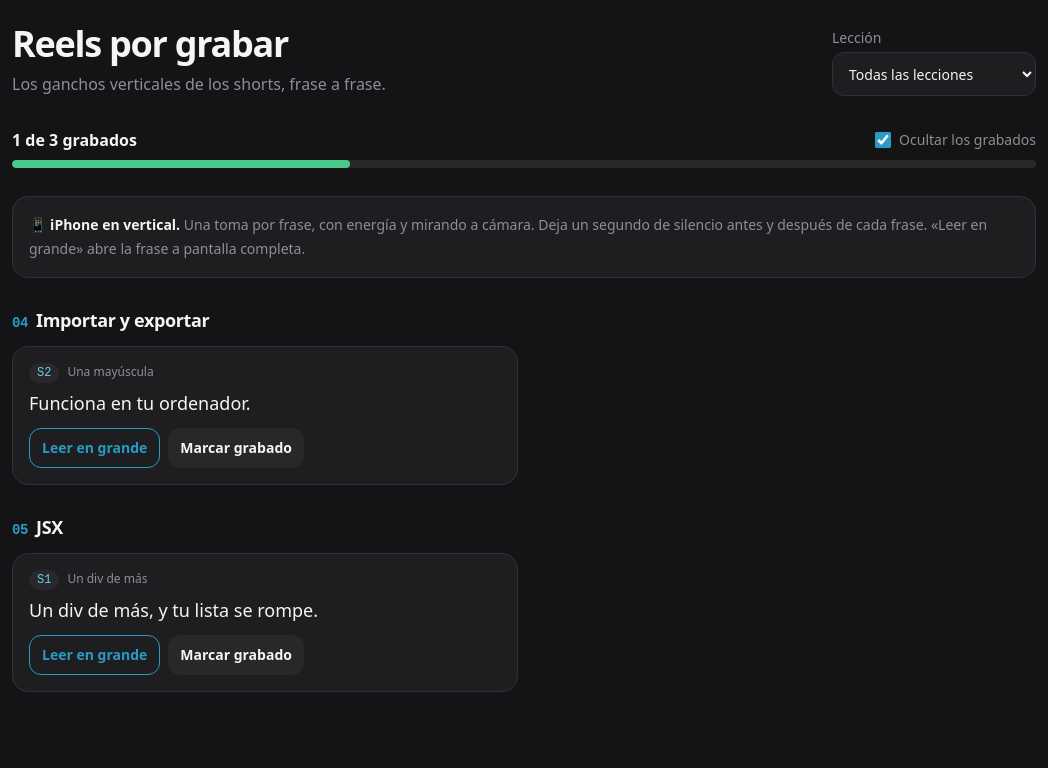
Test: teleprompter de reels › filtra por lección y marca grabado guardándolo en la API
Select "05 · JSX" in the dropdown labelled "Lección": (934, 74) [832,52,1036,96]
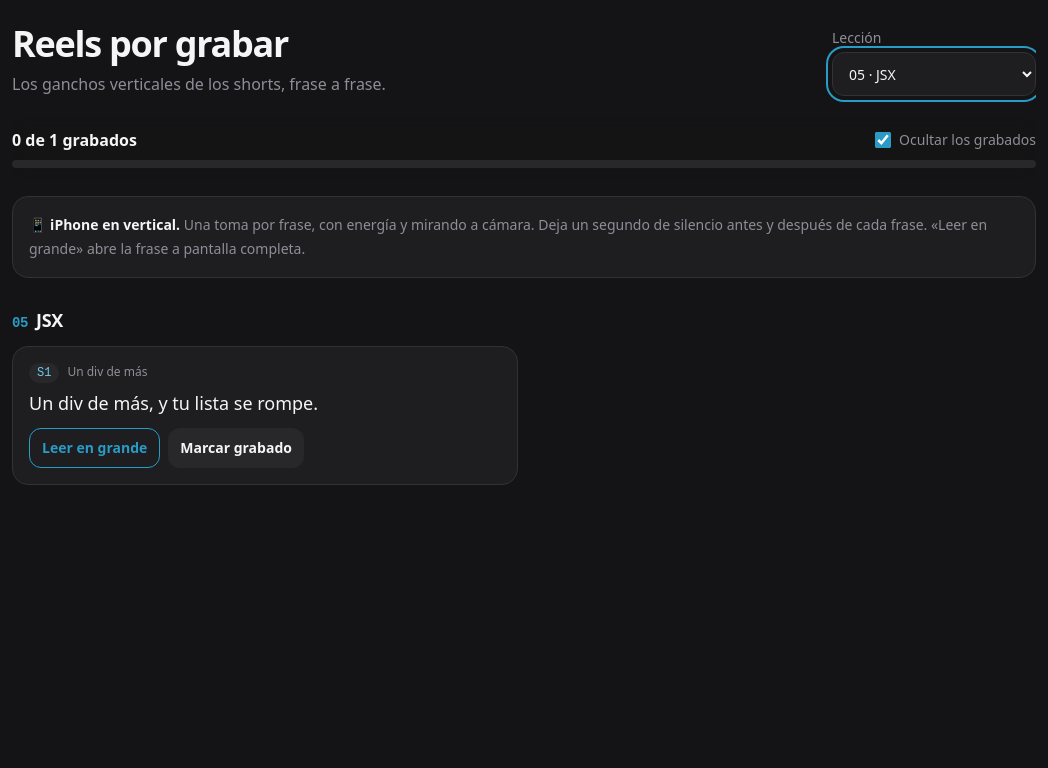
expect the text "0 de 1 grabados" is shown: met, box [12,128,137,152]
Click the button "Marcar grabado": (236, 448) [168,428,304,468]
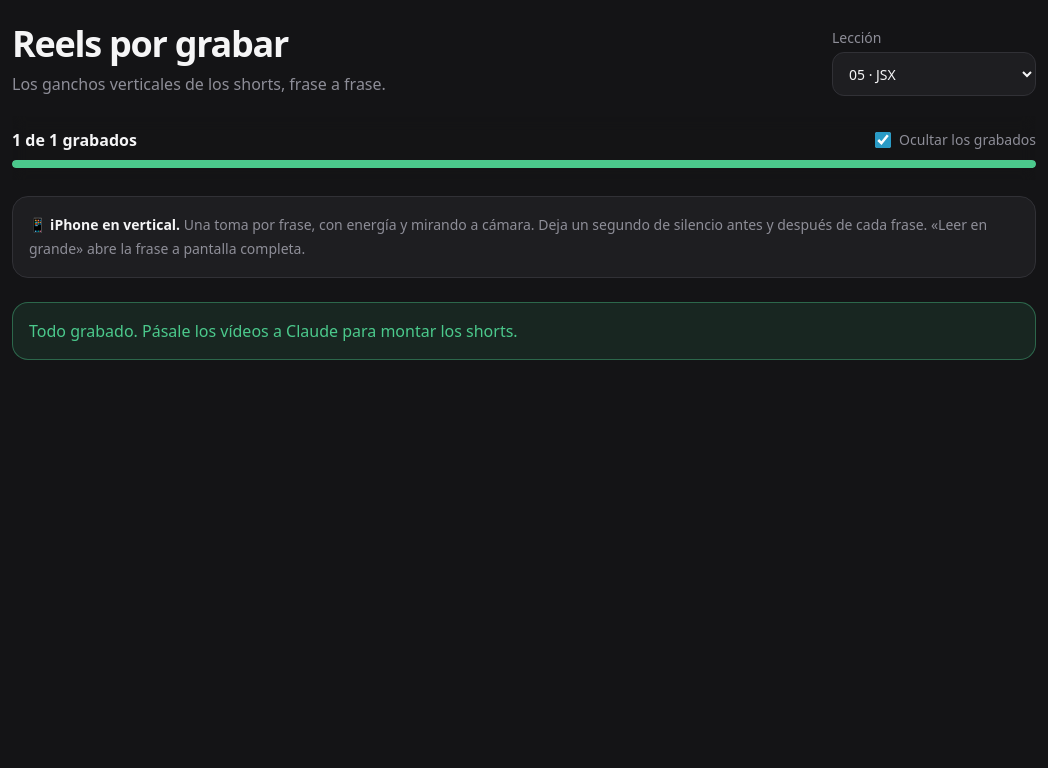
expect the text "Todo grabado. Pásale los vídeos a Claude para montar los shorts." is shown: met, box [12,302,1036,360]
